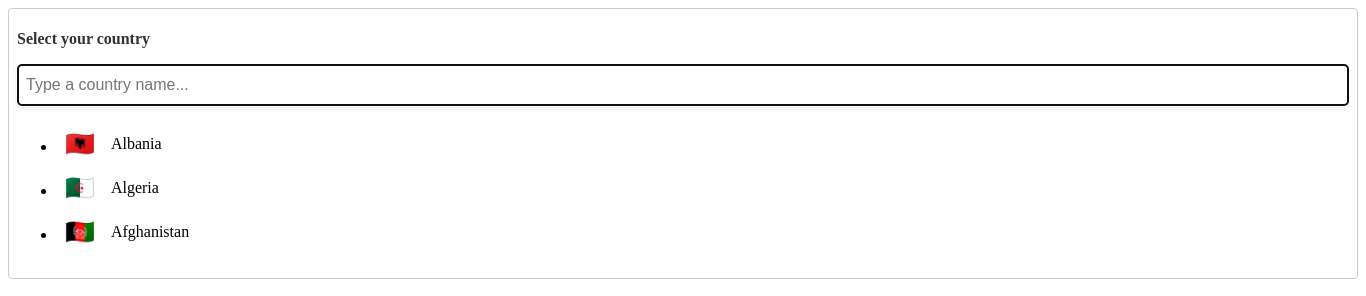
Test: Autocomplete Component › should select country when clicking suggestion
Type "al" into the field.
click(683, 85); type("al")  # box [17,64,1349,106]
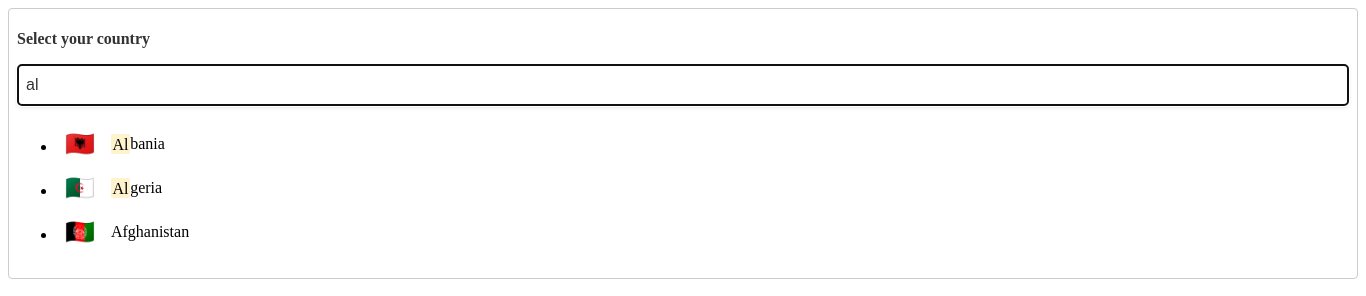
Click the text "bania".
click(138, 144)  # box [111,135,165,153]
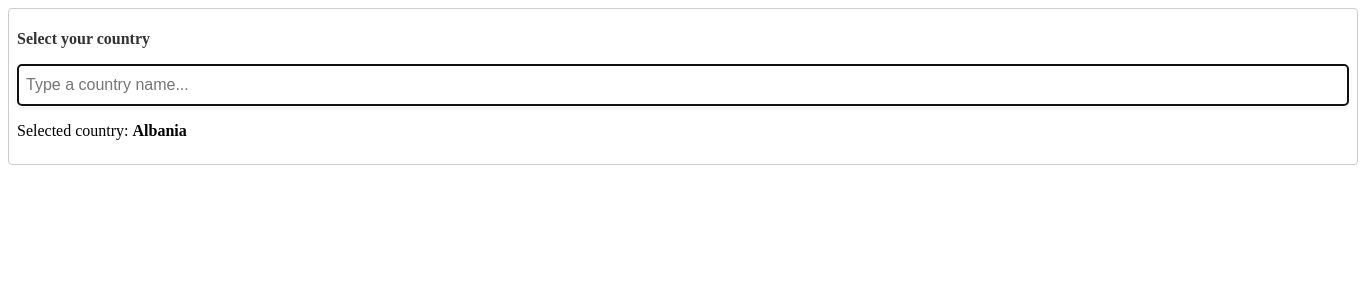
Expected: the text "Albania" is shown, [132,122,187,139]
Now the text "Selected country:" is shown, box [17,122,132,139]
Now the field is empty, box [17,64,1349,106]
